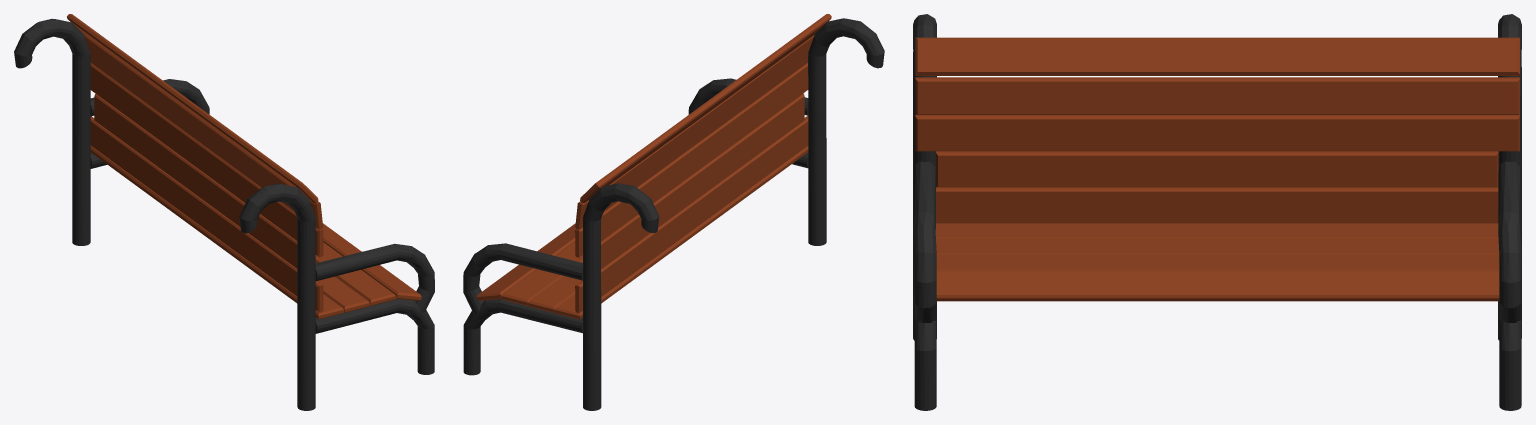
File: bench.fbx
3 renders of one model, left to right at view 1: azimuth 30°, elevation 25°; view 2: azimuth 150°, elevation 25°; view 3: azimuth 270°, elevation 25°, orthographic. The views are drawn at different scales.
Parts seen in each view (by area): view 1: Railing left, Railing right, Plank4, Plank5, Plank8, Plank6, Plank7, Plank1, Plank, Plank3, Plank2; view 2: Railing right, Railing left, Plank4, Plank5, Plank8, Plank6, Plank7, Plank1, Plank, Plank3, Plank2; view 3: Plank7, Plank6, Plank5, Plank4, Plank8, Plank, Plank3, Plank1, Plank2, Railing left, Railing right.
Boxes of the visible parts, box(x1,y1,x2,y2) form: Railing left: box(239, 183, 434, 410); Railing right: box(14, 18, 209, 245); Plank4: box(90, 116, 323, 312); Plank5: box(90, 63, 323, 257); Plank8: box(94, 94, 297, 268); Plank6: box(84, 35, 322, 229); Plank7: box(67, 14, 318, 202); Plank1: box(90, 146, 343, 319); Plank: box(322, 223, 421, 300); Plank3: box(315, 242, 396, 305); Plank2: box(317, 276, 370, 312); Railing right: box(463, 183, 659, 410); Railing left: box(688, 18, 884, 245); Plank4: box(575, 116, 808, 312); Plank5: box(575, 63, 808, 257); Plank8: box(601, 93, 804, 268); Plank6: box(575, 35, 814, 229); Plank7: box(580, 14, 831, 203); Plank1: box(554, 145, 808, 319); Plank: box(476, 223, 576, 300); Plank3: box(502, 242, 582, 305); Plank2: box(528, 262, 582, 312); Plank7: box(915, 37, 1519, 75); Plank6: box(915, 77, 1519, 114); Plank5: box(915, 115, 1519, 151); Plank4: box(936, 187, 1498, 223); Plank8: box(936, 151, 1498, 187); Plank: box(936, 271, 1499, 301); Plank3: box(936, 255, 1499, 271); Plank1: box(935, 223, 1498, 239); Plank2: box(936, 239, 1499, 254); Railing left: box(913, 14, 936, 410); Railing right: box(1498, 14, 1521, 410).
Bounding box in the file's own units: 622 × 707 × 1307.
